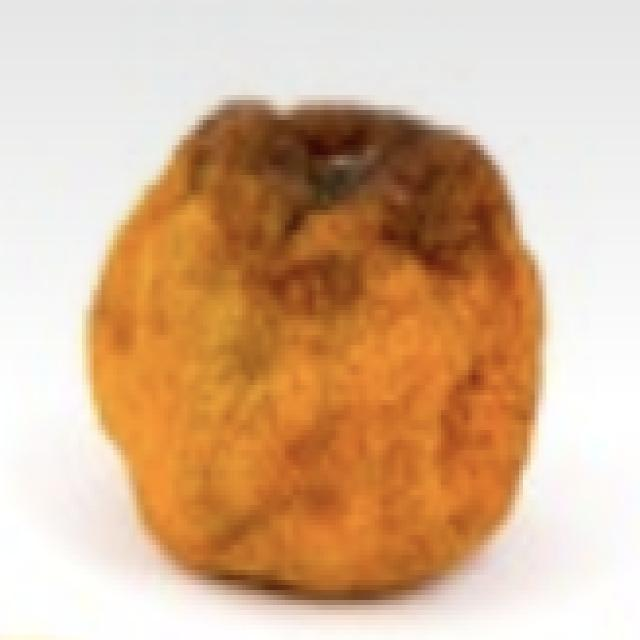sangat-busuk: (90, 102, 542, 597)
